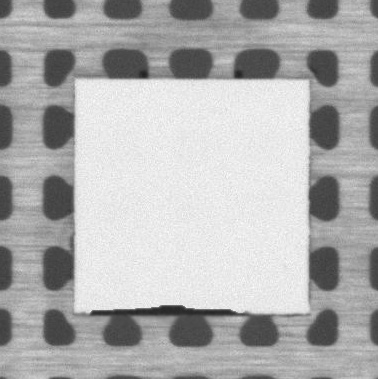DIE_BROKEN: (89, 300, 250, 318)
